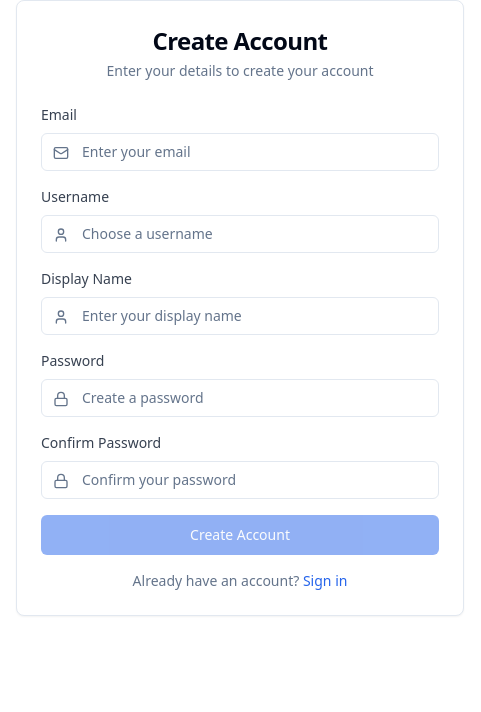
Test: SignUpForm Security › Password Security › should maintain existing password strength validation
In the password field labelled "Password": (240, 398) [41,379,439,417], type "weak"
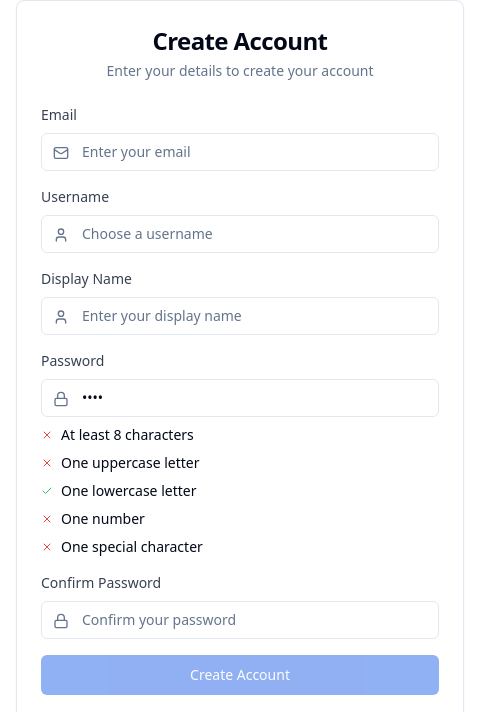
Check: the text "At least 8 characters" is shown, box [61,425,194,445]
Check: the text "One uppercase letter" is shown, box [61,453,200,473]
Check: the text "One lowercase letter" is shown, box [61,481,196,501]
